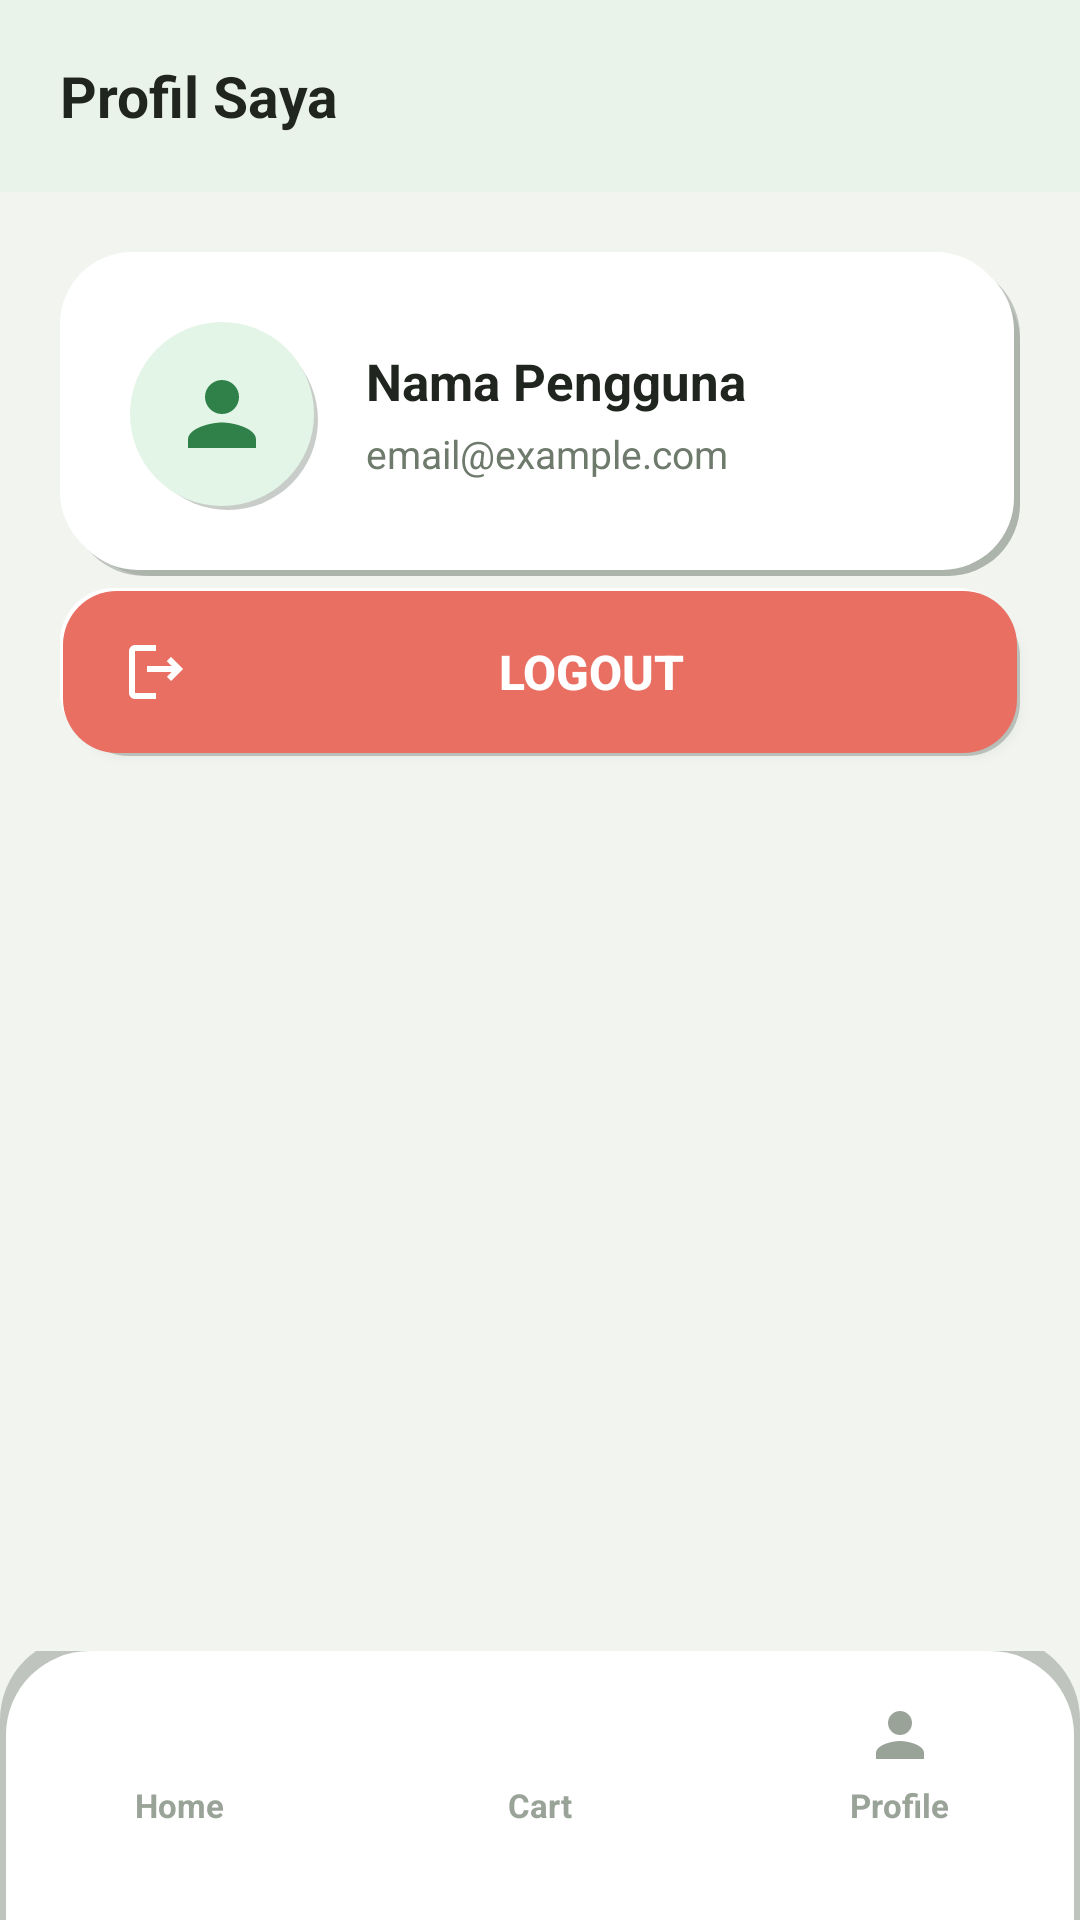

Where to tap for icons on this 1080px×1920px app screen, as (x=x, y=y):
person: (x=224, y=416), (x=900, y=1735)
